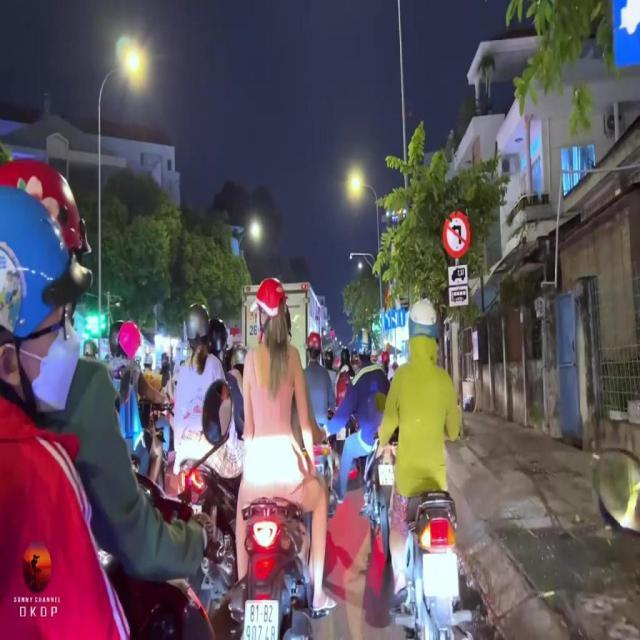123a-cam-re-trai: (442, 210, 471, 258)
